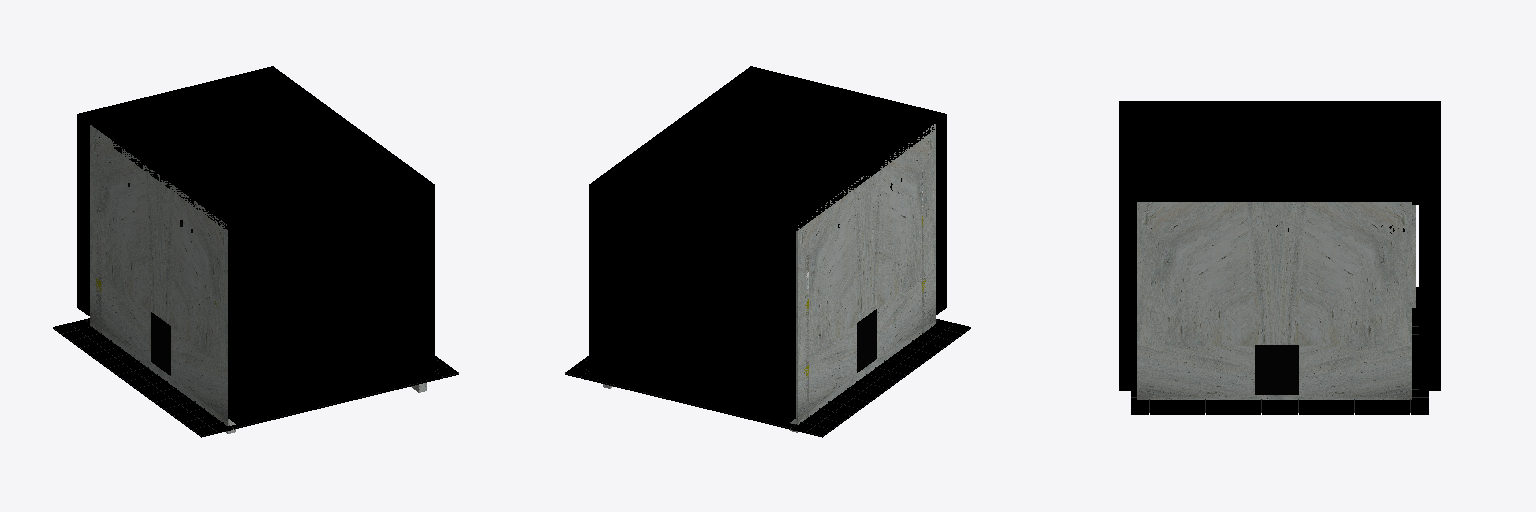
3 views of the same model, side by side, from view 1: azimuth 30°, elevation 25°; view 2: azimuth 150°, elevation 25°; view 3: azimuth 270°, elevation 25° (orthographic).
Parts seen in each view (by area): view 1: polySurface11, Box002 group6, Plane001, group6 pCube13 group5; view 2: polySurface11, Box002 group6, Plane001, group6 pCube13 group5; view 3: Box002 group3, polySurface11, Plane001, group3 pCube13 group5.
Part boxes in pixels (x1,y1,x2,y2): polySurface11: (77, 66, 434, 425); Box002 group6: (90, 125, 235, 433); Plane001: (53, 318, 458, 437); group6 pCube13 group5: (151, 312, 170, 375); polySurface11: (589, 66, 946, 425); Box002 group6: (790, 124, 935, 432); Plane001: (565, 319, 970, 437); group6 pCube13 group5: (857, 309, 876, 372); Box002 group3: (1137, 202, 1411, 399); polySurface11: (1119, 101, 1440, 390); Plane001: (1131, 287, 1428, 414); group3 pCube13 group5: (1255, 345, 1298, 394).
Bounding box in the file's own units: 27.5 × 21.76 × 29.78.
Materials: 16 (3 with a texture image).